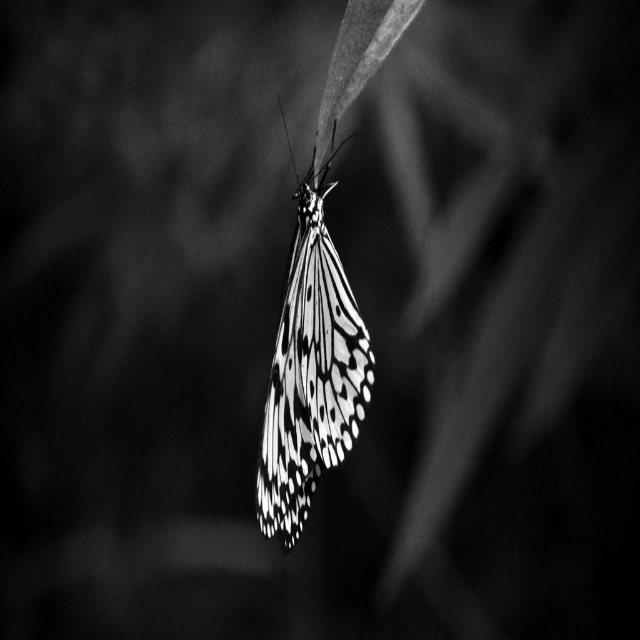Butterfly: (254, 90, 376, 546)
